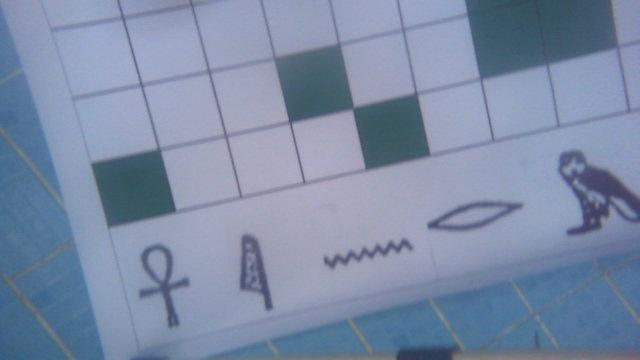Ankh: (129, 244, 192, 335)
Mouth: (421, 198, 529, 237)
Owl: (556, 147, 640, 235)
Reed: (234, 234, 276, 316)
Water: (320, 236, 414, 273)
